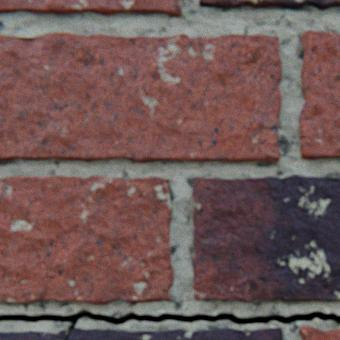brick: (0, 34, 282, 163), (0, 176, 174, 305), (192, 175, 339, 302), (299, 32, 339, 160), (0, 0, 182, 18), (199, 0, 339, 11), (301, 326, 339, 339)
broken_brick: (0, 328, 282, 339)
crack: (0, 309, 339, 338)
